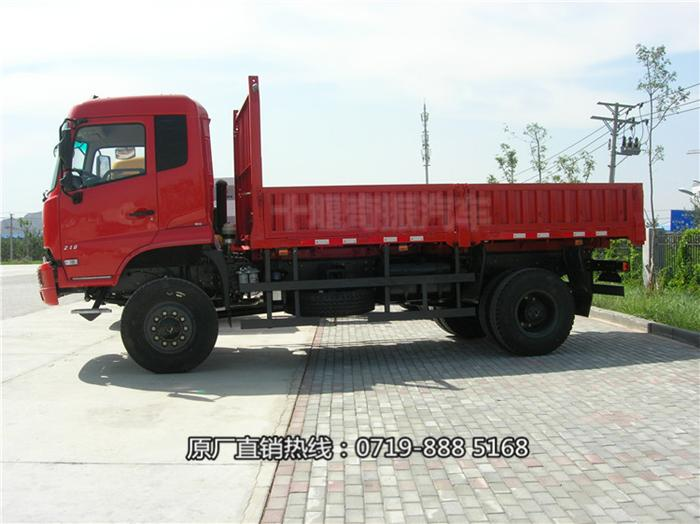truck: (35, 74, 649, 377)
